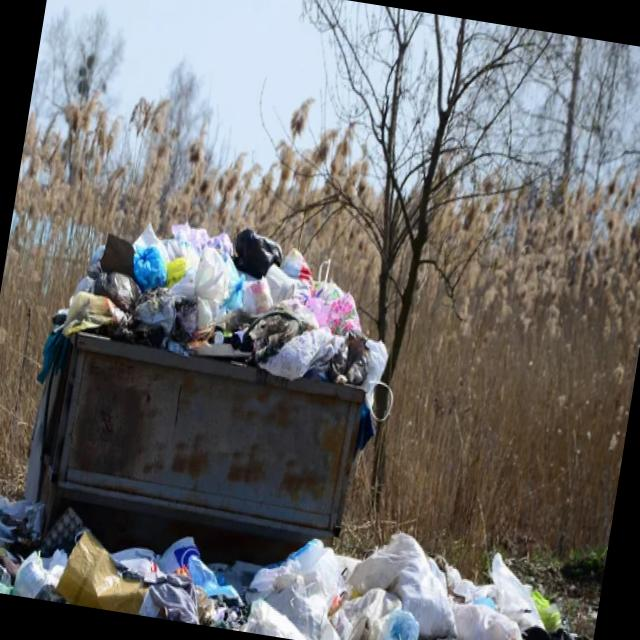garbage: (34, 465, 598, 640)
